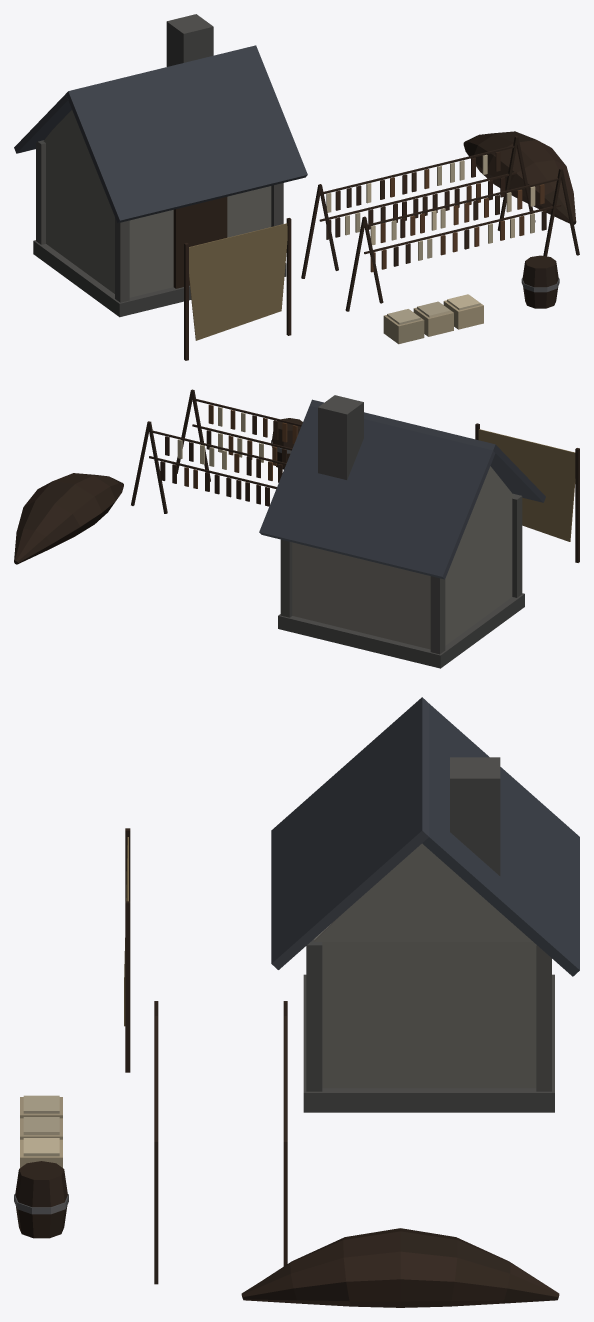
File: walk_freehold_fishery.glb
The picture shows the model from 3 angles, top to bottom: view 1: azimuth 30°, elevation 25°; view 2: azimuth 150°, elevation 25°; view 3: azimuth 270°, elevation 25°; orthographic projection. The views are drawn at different scales.
Visible parts, largest first — view 1: walk_freehold_fishery, walk_freehold_fishery_roof; view 2: walk_freehold_fishery, walk_freehold_fishery_roof; view 3: walk_freehold_fishery, walk_freehold_fishery_roof.
Part boxes in pixels (x1=…): walk_freehold_fishery: x1=33, y1=110, x2=579, y2=360; walk_freehold_fishery_roof: x1=14, y1=14, x2=307, y2=223; walk_freehold_fishery: x1=14, y1=389, x2=579, y2=668; walk_freehold_fishery_roof: x1=259, y1=395, x2=545, y2=579; walk_freehold_fishery: x1=14, y1=828, x2=559, y2=1307; walk_freehold_fishery_roof: x1=271, y1=697, x2=579, y2=976.
Size of what is drawn, in the model's own units: 11.15 by 4.9 by 7.88.
2 materials, 2 textured.
